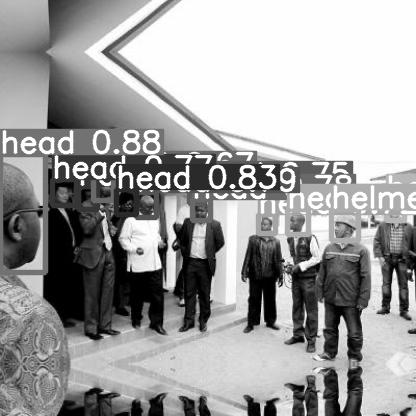head: (0, 154, 45, 272), (52, 179, 76, 205), (287, 209, 308, 234), (136, 192, 156, 217), (116, 189, 136, 214), (93, 176, 113, 200), (78, 186, 97, 209), (386, 199, 404, 220), (192, 199, 210, 220), (258, 214, 275, 233), (189, 186, 204, 203)
helmet: (331, 209, 358, 240)
